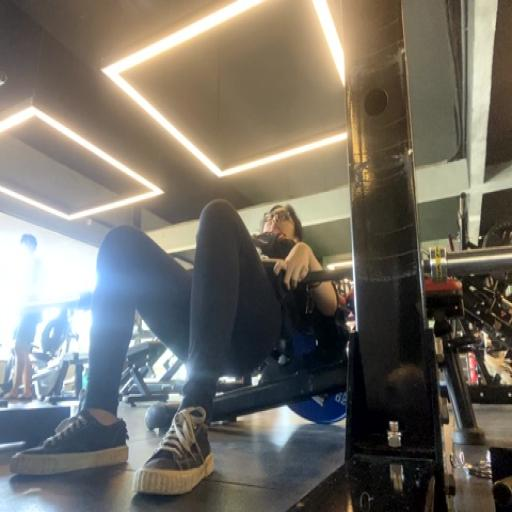exercise: (8, 196, 342, 499)
